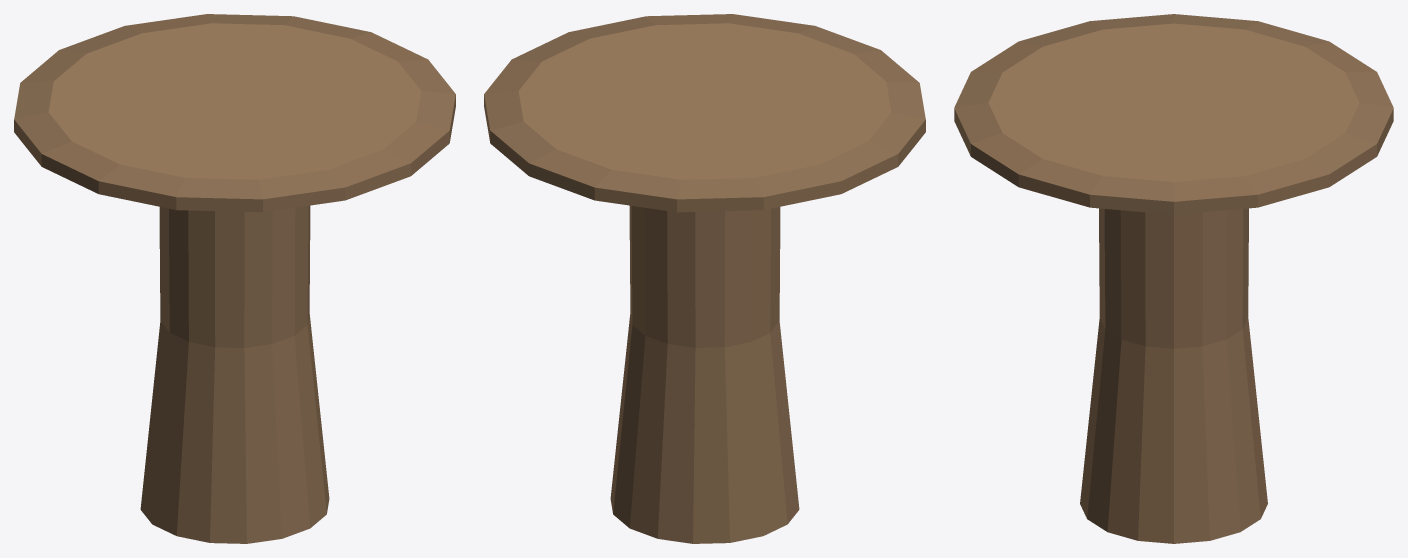
The model's file is WoodTable.fbx.
3 renders of one model, left to right at view 1: azimuth 30°, elevation 25°; view 2: azimuth 150°, elevation 25°; view 3: azimuth 270°, elevation 25°, orthographic.
Visible parts, largest first — view 1: WoodTable; view 2: WoodTable; view 3: WoodTable.
Boxes of the visible parts, left/top/right/bottom form: WoodTable: left=14, top=14, right=455, bottom=543; WoodTable: left=484, top=14, right=925, bottom=543; WoodTable: left=954, top=14, right=1393, bottom=543.
Size of the model in its own units: 189 by 188 by 187.
